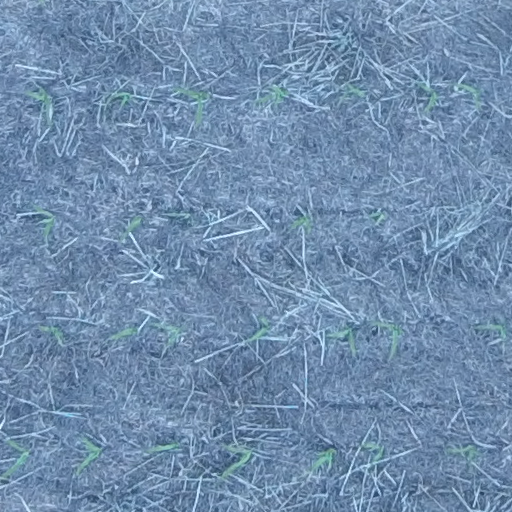planta: (172, 85, 209, 122), (218, 444, 252, 478), (1, 438, 30, 477), (370, 319, 403, 352), (76, 436, 102, 473), (452, 81, 481, 110), (324, 327, 357, 351), (32, 204, 54, 237), (150, 322, 183, 344), (254, 85, 288, 105), (247, 315, 270, 342), (309, 448, 336, 471), (416, 82, 438, 110), (361, 440, 384, 464), (119, 216, 142, 239), (446, 444, 477, 461), (26, 85, 52, 104), (479, 323, 506, 340), (290, 214, 312, 234), (147, 440, 179, 452), (38, 324, 63, 338), (109, 91, 132, 106), (111, 326, 137, 339), (345, 83, 365, 97), (367, 210, 385, 224)
